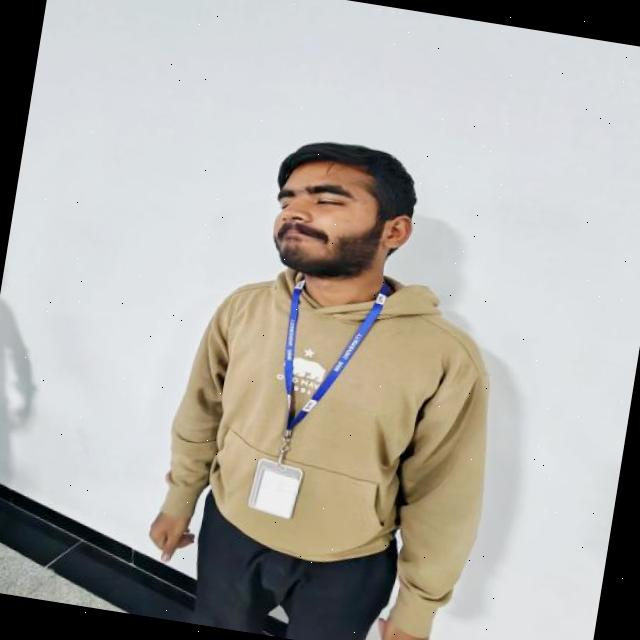Card: (248, 459, 303, 519)
Id strap: (285, 280, 389, 430)
